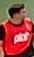red: (1, 1, 34, 57)
